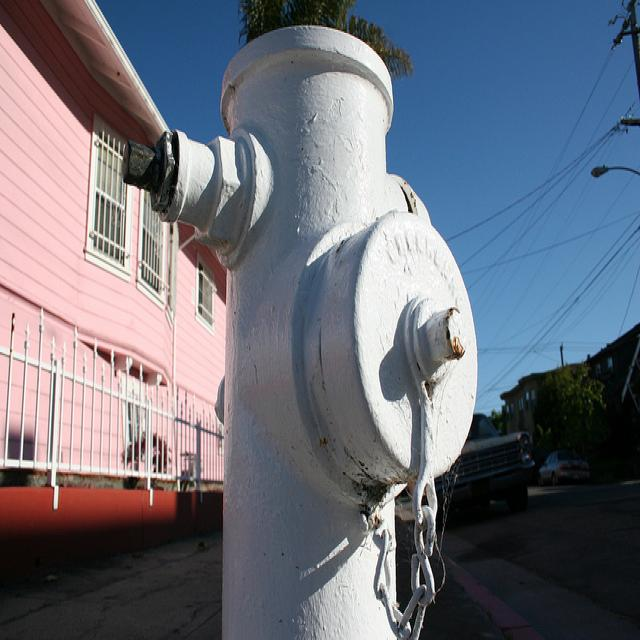Vehicle: (434, 414, 539, 514), (540, 452, 590, 483)
